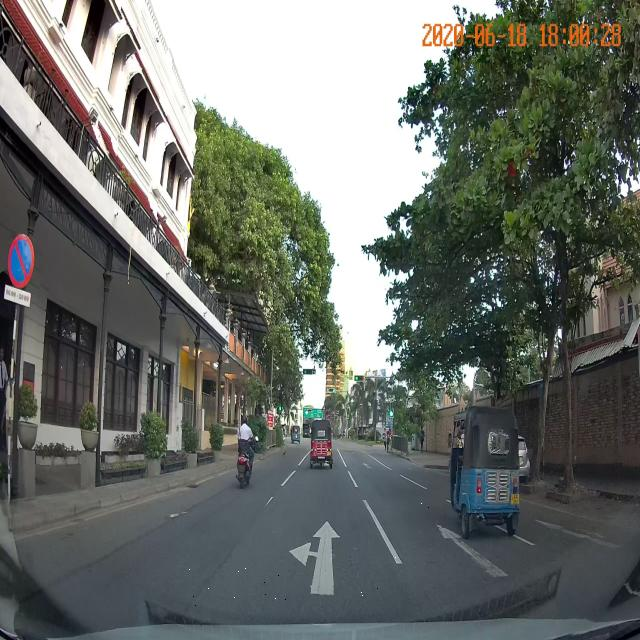forward_lft: (187, 502, 431, 611), (200, 511, 420, 591), (219, 526, 405, 561)
